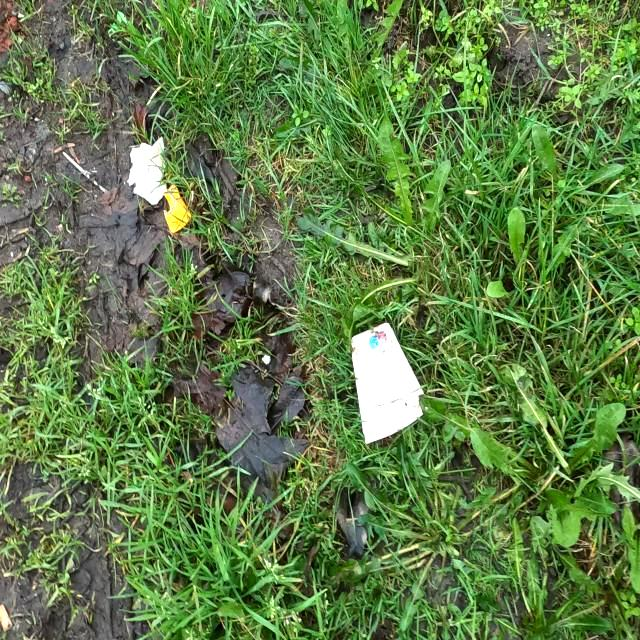Coffee Cup: (350, 321, 428, 444)
Paper: (126, 134, 166, 206)
Plastic: (162, 185, 192, 232)
